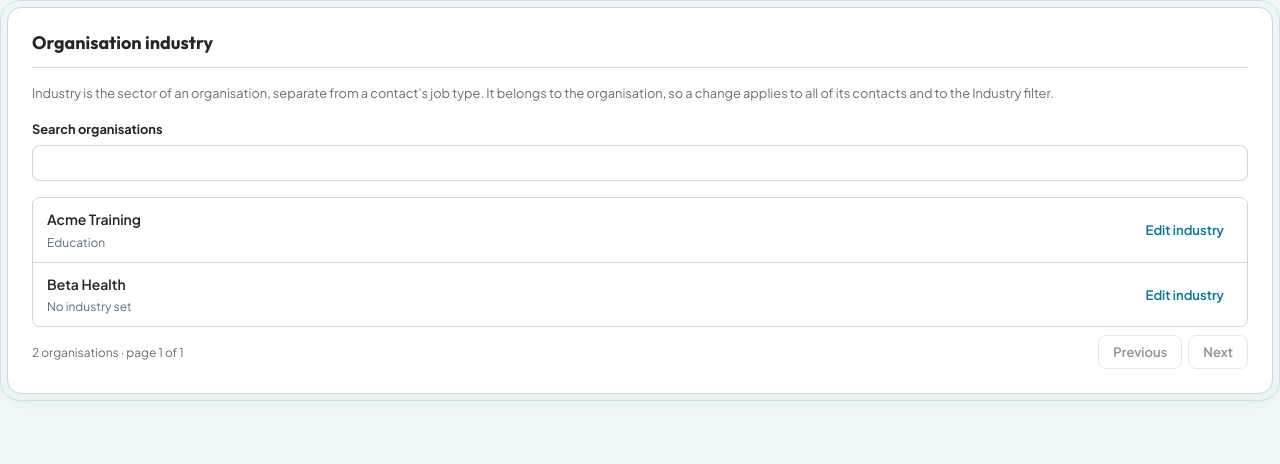
Test: OrganisationSettings › cancels with Escape
Click the button with aria-label "Edit industry of Acme Training".
click(1185, 230)  # box [1137,217,1233,243]
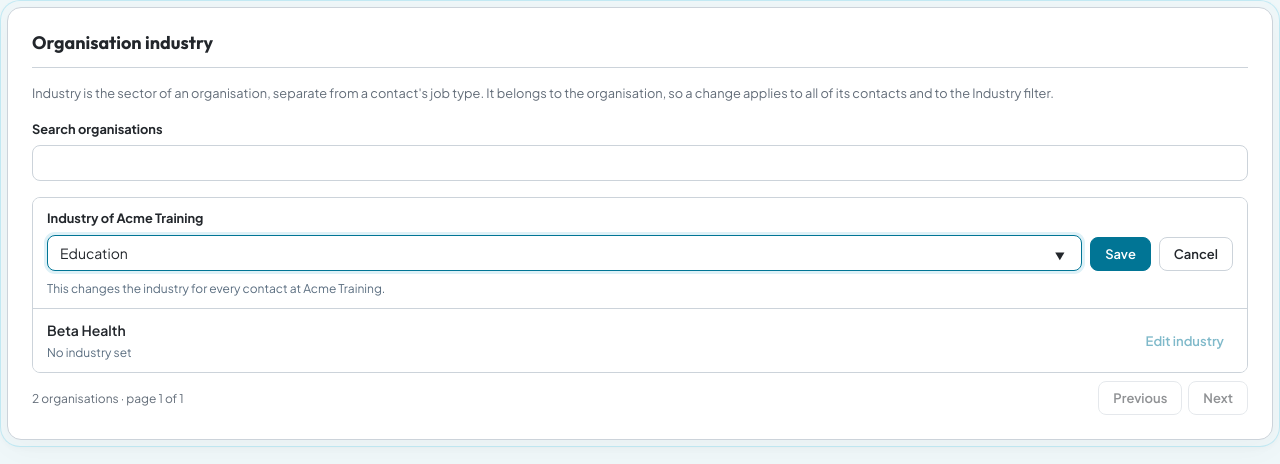
Press Escape in the field labelled "Industry of Acme Training", box [47,235,1082,271]
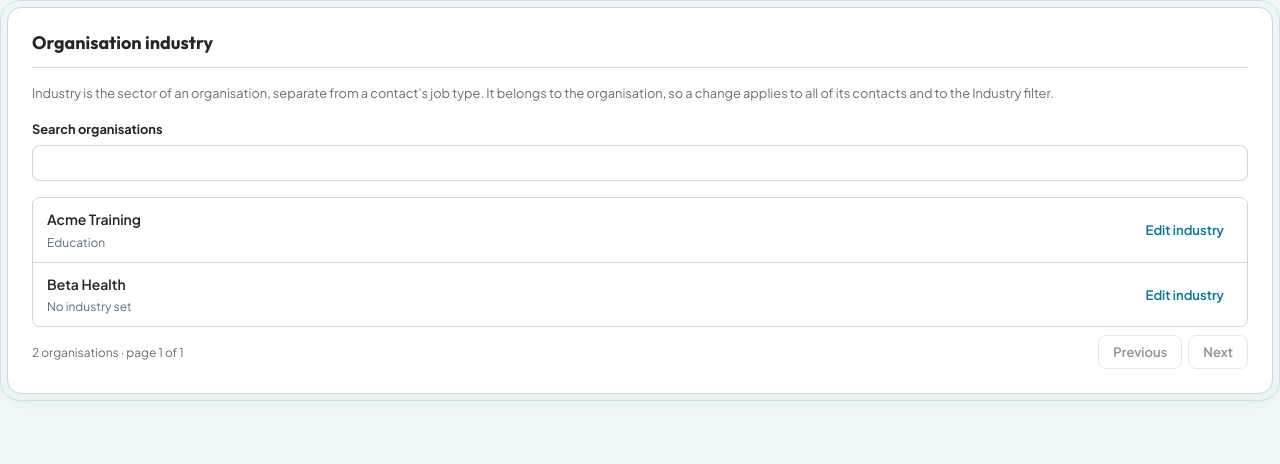
expect the label labelled "Industry of Acme Training" is gone: met
